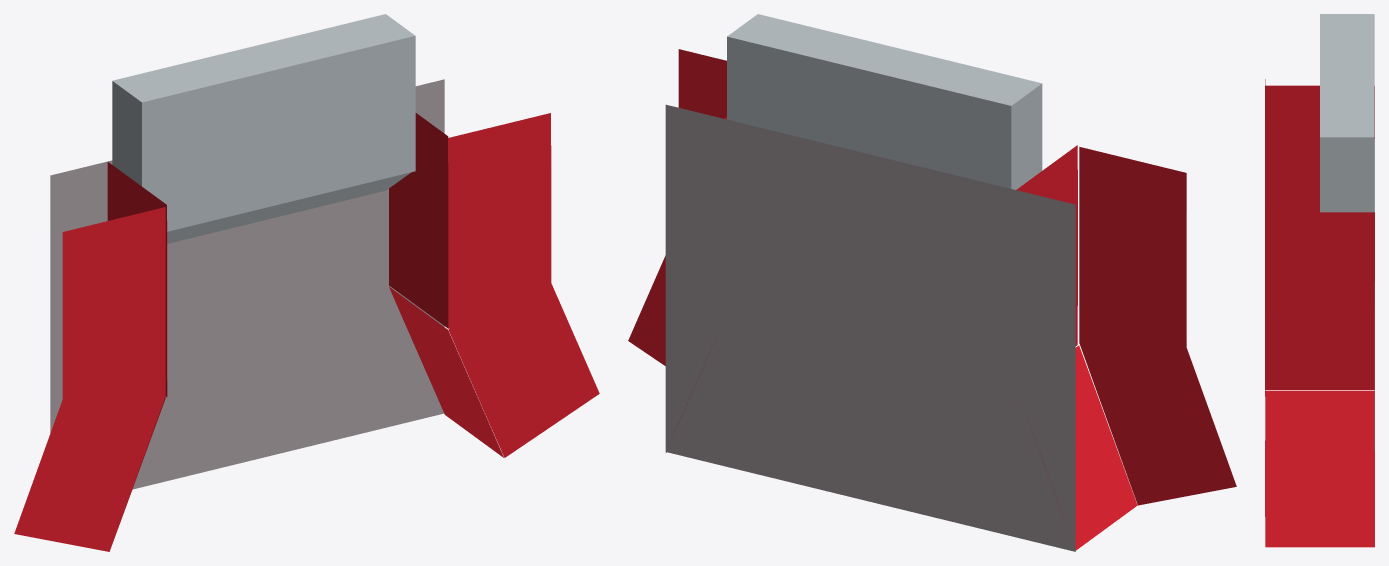
Rendered from tinker.obj.
The picture shows the model from 3 angles, left to right: view 1: azimuth 30°, elevation 25°; view 2: azimuth 150°, elevation 25°; view 3: azimuth 270°, elevation 25°; orthographic projection. The views are drawn at different scales.
Parts seen in each view (by area): view 1: obj_1, obj_7, obj_5, obj_6, obj_3, obj_2, obj_4; view 2: obj_1, obj_6, obj_7, obj_0, obj_5, obj_4; view 3: obj_3, obj_2, obj_7, obj_4, obj_5, obj_6, obj_1.
Part boxes in pixels (x1,y1,x2,y2): obj_1: (50,79,444,489); obj_7: (112,14,415,243); obj_5: (448,113,599,457); obj_6: (14,207,165,551); obj_3: (389,113,448,328); obj_2: (389,287,503,457); obj_4: (107,162,167,396); obj_1: (665,104,1075,551); obj_6: (1079,147,1236,505); obj_7: (727,14,1042,189); obj_0: (1036,345,1137,550); obj_5: (628,49,726,365); obj_4: (1016,145,1077,345); obj_3: (1265,212,1374,389); obj_2: (1265,390,1374,547); obj_7: (1320,14,1374,212); obj_4: (1265,85,1374,212); obj_5: (1265,270,1265,516); obj_6: (1265,79,1265,269); obj_1: (1374,282,1374,450).
Bounding box in the file's own units: 39.8 × 26.98 × 7.01.
